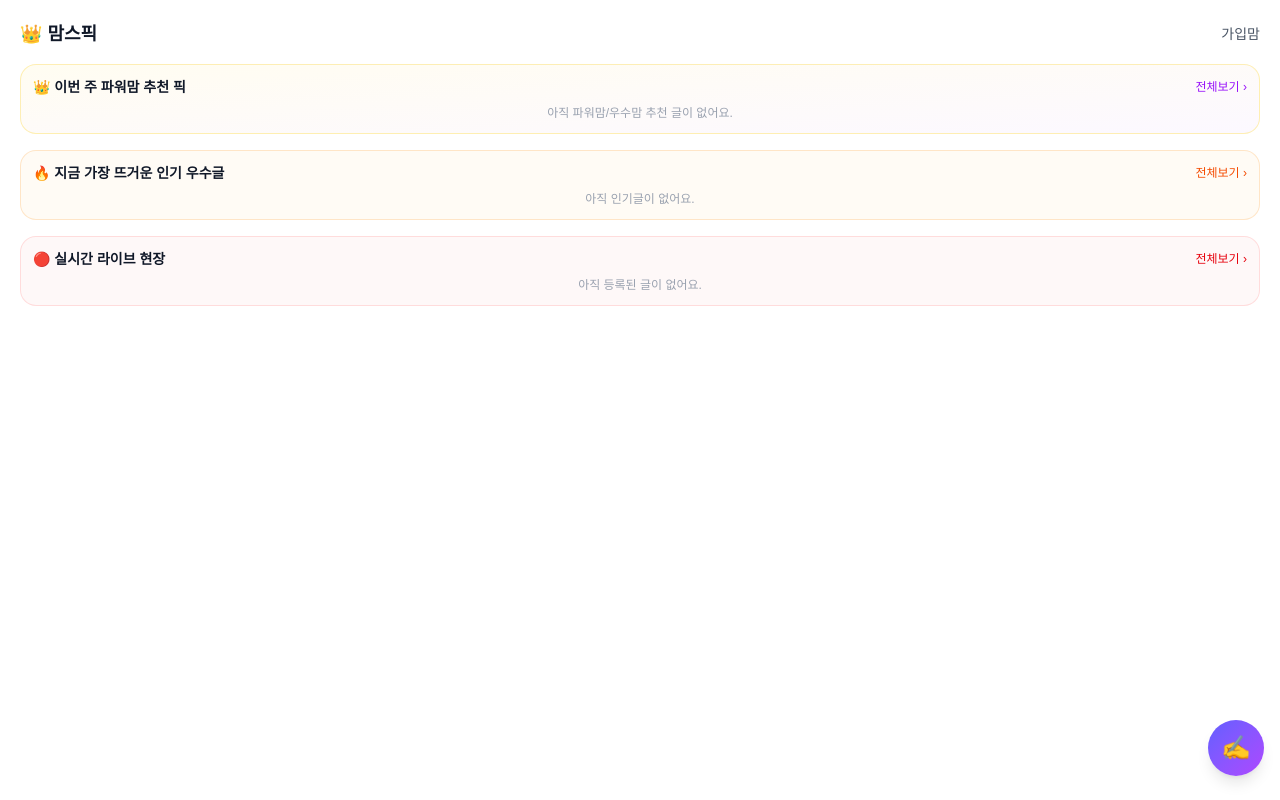
Test: MomPickView — 투명 오버레이 온보딩(개선사항4) › not_sprout_yet: 피드 위 투명 레이어를 터치하면 안내 팝업이 뜬다
Expected: the heading "🔥 지금 가장 뜨거운 인기 우수글" is shown, [33, 163, 224, 183]
What coordinates should you click on to do the following:
click the button named "첫 글을 작성하고 맘스픽 모든 기능 이용하기"
I would click on:
 (640, 185)
Its box is [20, 64, 1260, 306].
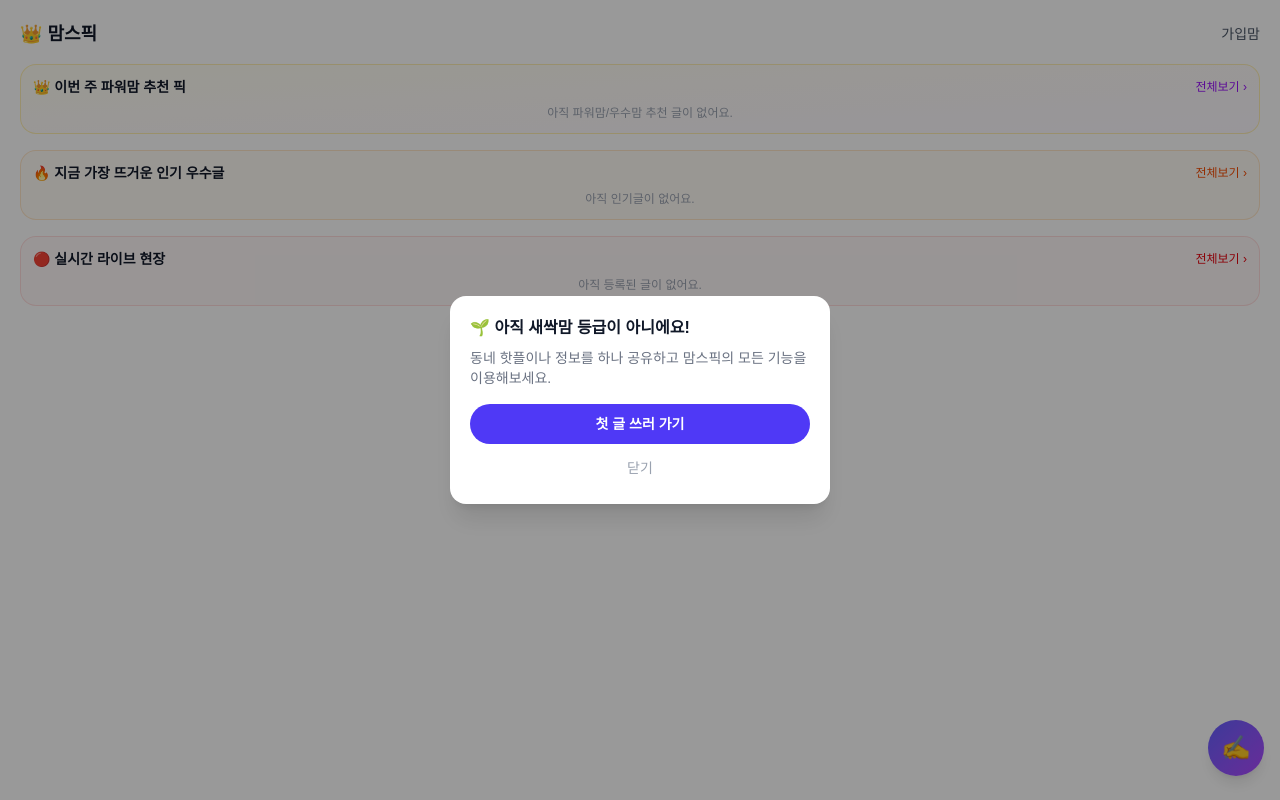
Now the heading "🌱 아직 새싹맘 등급이 아니에요!" is shown, box [470, 319, 690, 336]
